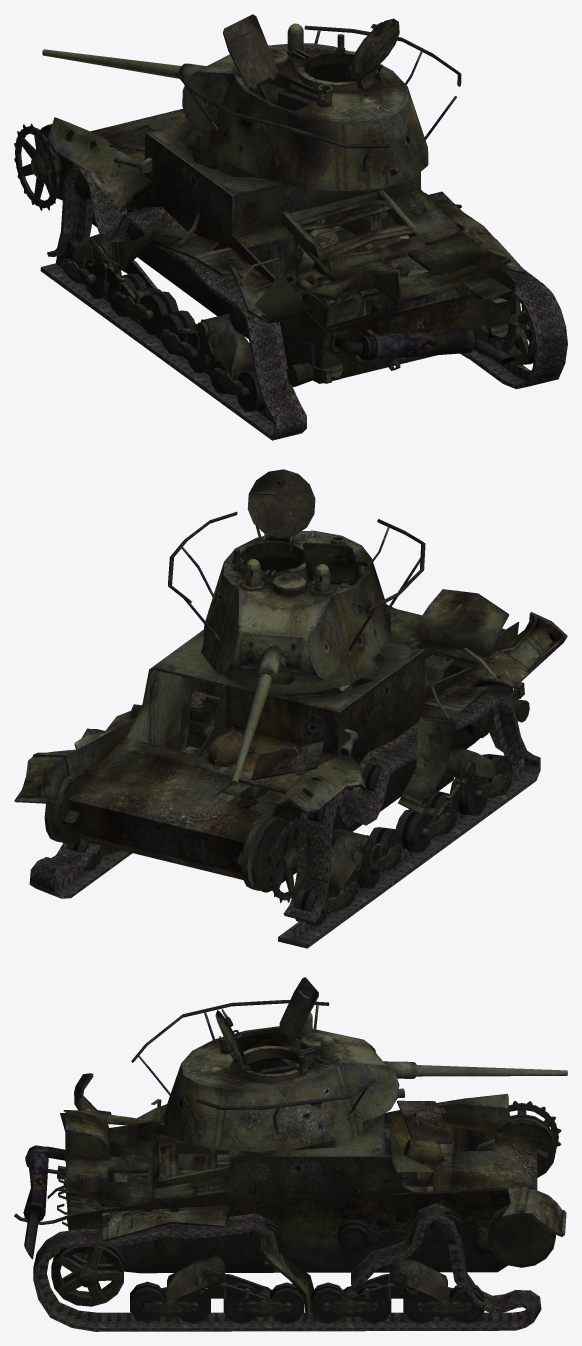
Rendered from -26_sd_crash.glb.
The picture shows the model from 3 angles, top to bottom: view 1: azimuth 30°, elevation 25°; view 2: azimuth 150°, elevation 25°; view 3: azimuth 270°, elevation 25°; orthographic projection. The views are drawn at different scales.
Visible parts, largest first — view 1: vertices.003, vertices.004, track_RShape, gun_08Shape; view 2: vertices.003, vertices.004, track_RShape, gun_08Shape; view 3: vertices.003, vertices.004, track_RShape, gun_08Shape.
Boxes of the visible parts, bbox=[...] form: vertices.003: bbox=[14, 109, 535, 411]; vertices.004: bbox=[175, 14, 461, 191]; track_RShape: bbox=[40, 167, 567, 440]; gun_08Shape: bbox=[42, 49, 206, 80]; vertices.003: bbox=[14, 589, 567, 925]; vertices.004: bbox=[168, 469, 425, 694]; track_RShape: bbox=[29, 690, 540, 948]; gun_08Shape: bbox=[231, 633, 302, 785]; vertices.003: bbox=[14, 1073, 566, 1323]; vertices.004: bbox=[131, 977, 399, 1151]; track_RShape: bbox=[33, 1203, 541, 1331]; gun_08Shape: bbox=[383, 1061, 567, 1078].
Size of the model in its own units: 2.89 by 2.74 by 4.82.
Materials: 6 (6 with a texture image).
